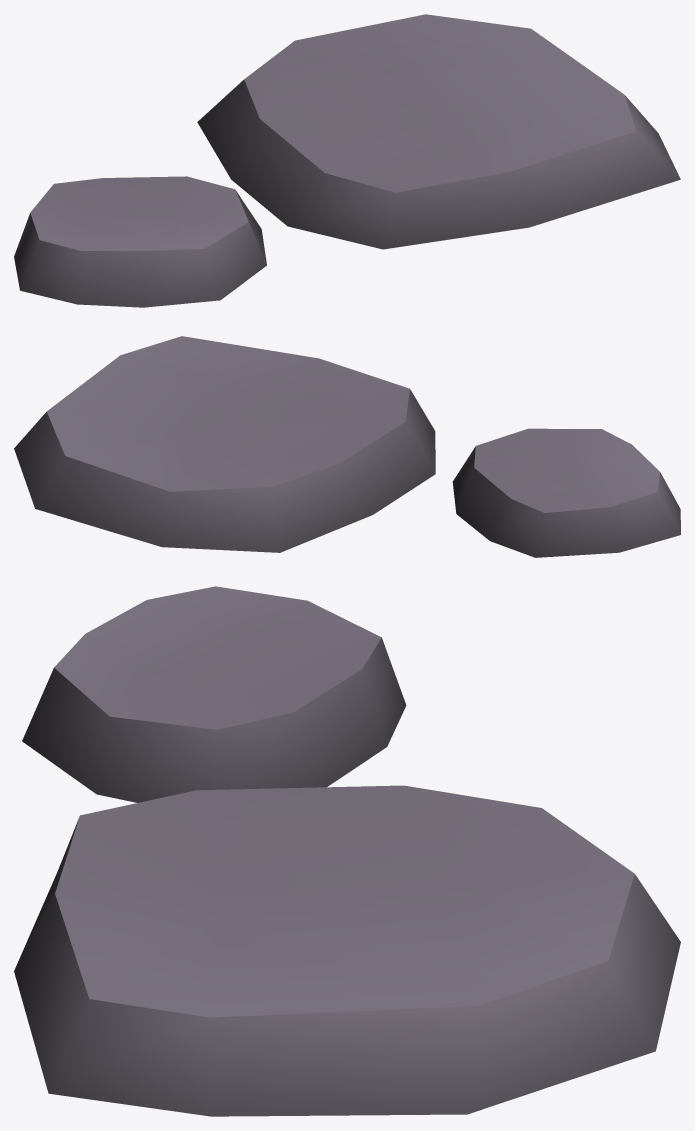
Rendered from gravel_3.glb.
3 renders of one model, top to bottom at view 1: azimuth 30°, elevation 25°; view 2: azimuth 150°, elevation 25°; view 3: azimuth 270°, elevation 25°, orthographic. The views are drawn at different scales.
Visible parts, largest first — view 1: gravel_3; view 2: gravel_3; view 3: gravel_3.
Boxes of the visible parts, left/top/right/bottom form: gravel_3: left=14, top=14, right=680, bottom=307; gravel_3: left=14, top=336, right=680, bottom=557; gravel_3: left=14, top=586, right=680, bottom=1116.
Size of the model in its own units: 0.8858 by 0.0705 by 0.5192.
1 material, 1 textured.
